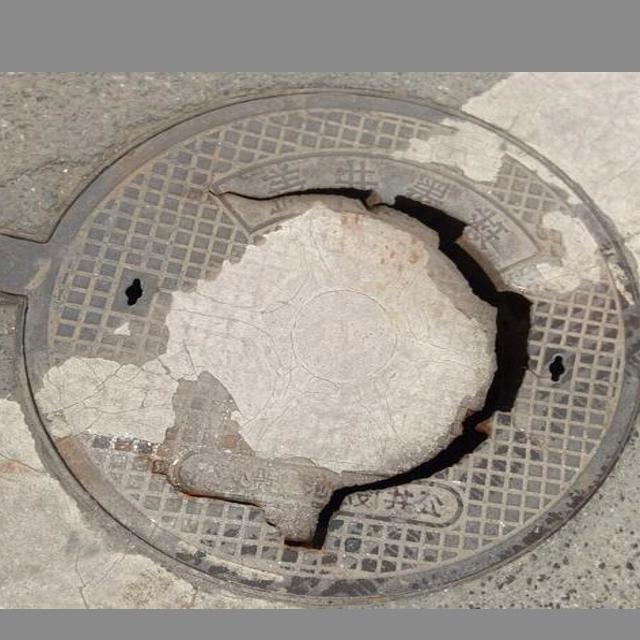broke: (6, 80, 640, 603)
